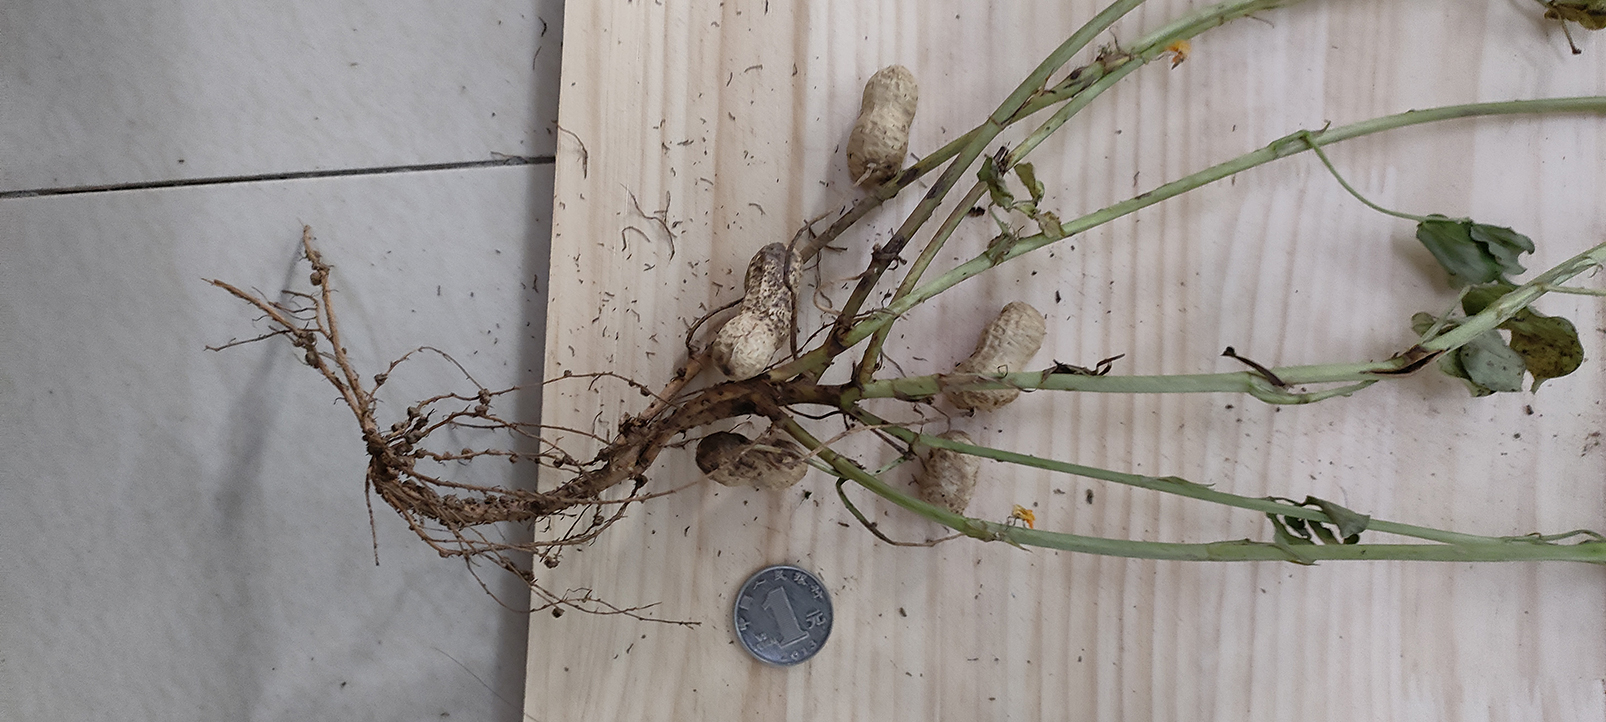h: (712, 242, 803, 377), (948, 300, 1047, 412), (845, 61, 920, 185)
l: (696, 429, 807, 491), (919, 428, 981, 514)
